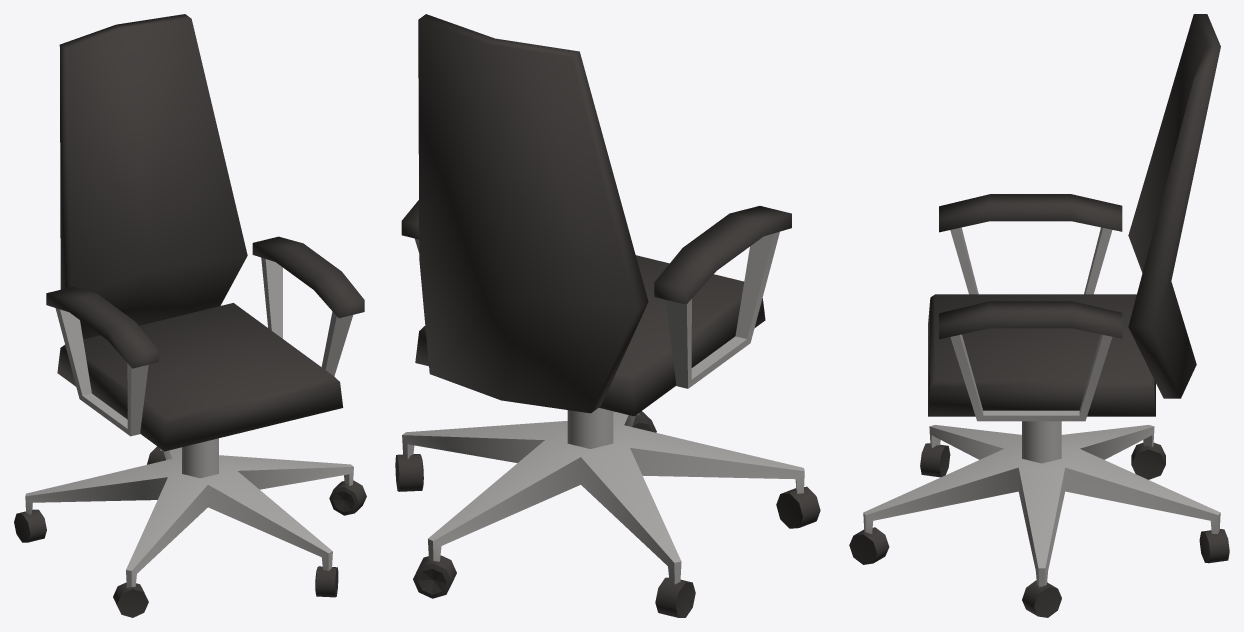
The model's file is chair1.FBX.
3 views of the same model, side by side, from view 1: azimuth 30°, elevation 25°; view 2: azimuth 150°, elevation 25°; view 3: azimuth 270°, elevation 25° (orthographic). The views are drawn at different scales.
Parts seen in each view (by area): view 1: chair1; view 2: chair1; view 3: chair1.
Boxes of the visible parts, box(x1,y1,x2,y2) form: chair1: box(14, 14, 366, 617); chair1: box(395, 14, 820, 617); chair1: box(849, 14, 1229, 617).
Size of the model in its own units: 80.12 by 118 by 83.16.
1 material, 1 textured.
